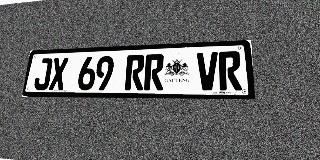6: (77, 56, 97, 90)
9: (94, 56, 114, 90)
J: (33, 58, 53, 90)
R: (218, 51, 242, 90), (124, 55, 145, 90), (144, 54, 164, 90)
V: (197, 52, 219, 90)
X: (48, 57, 69, 90)
